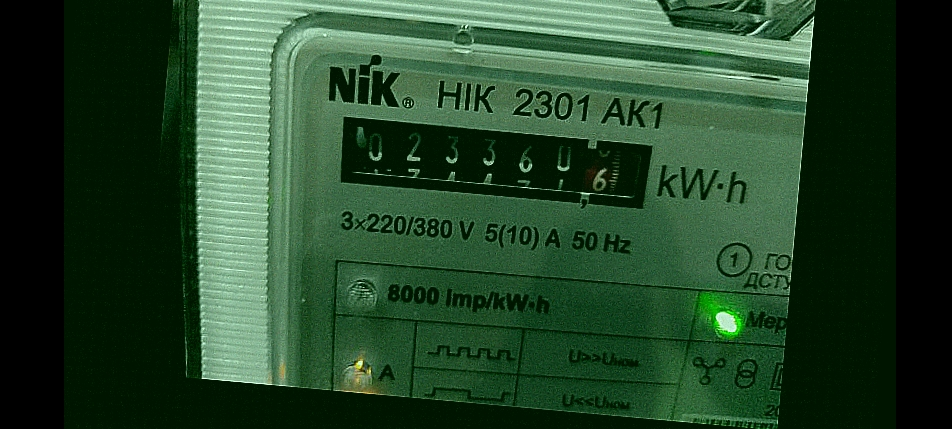0: (363, 127, 387, 162), (554, 140, 574, 173)
2: (401, 128, 427, 164)
3: (439, 131, 463, 165), (478, 134, 500, 166)
6: (514, 140, 537, 173), (587, 161, 611, 192)
screen: (318, 97, 667, 225)
